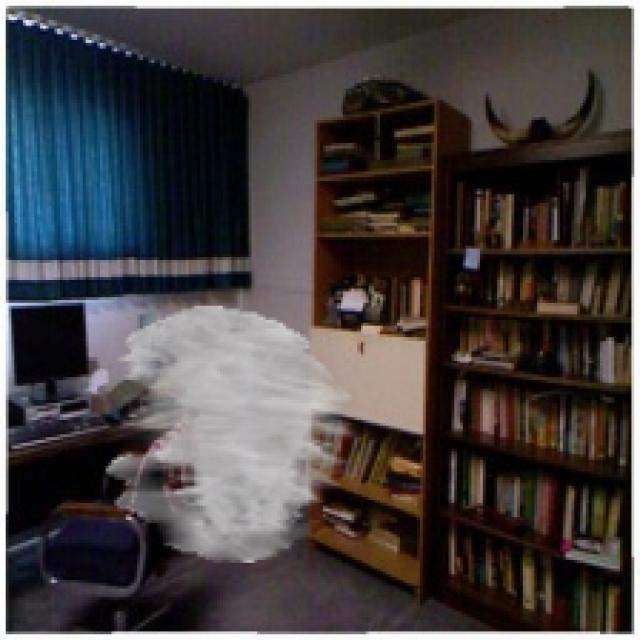Smoke: (106, 306, 357, 563)
